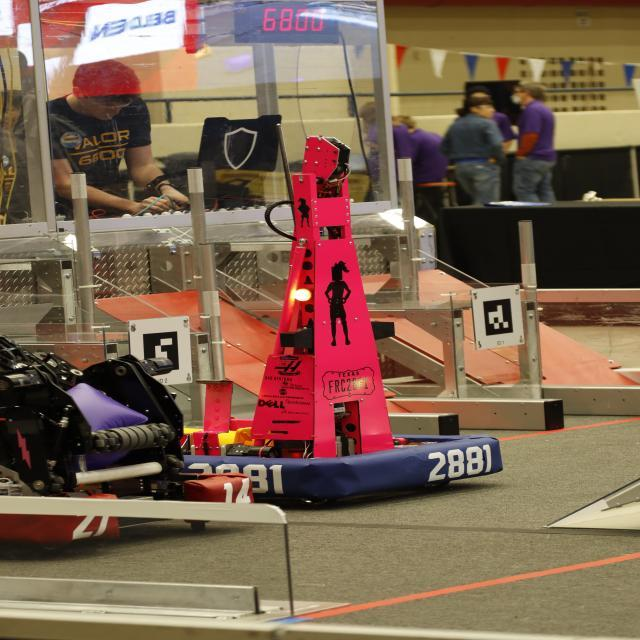robot: (180, 127, 522, 500), (0, 311, 226, 552)
